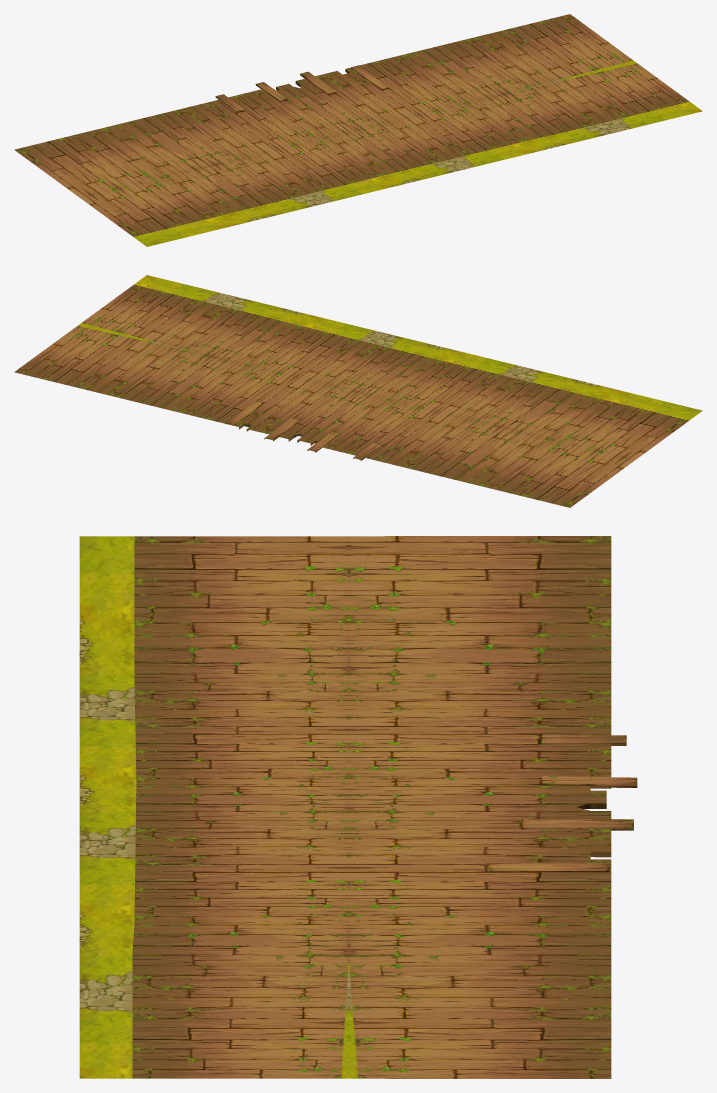
The model's file is sences_changbanpo_daolu003.FBX.
The picture shows the model from 3 angles, top to bottom: view 1: azimuth 30°, elevation 25°; view 2: azimuth 150°, elevation 25°; view 3: azimuth 270°, elevation 25°; orthographic projection. The views are drawn at different scales.
Visible parts, largest first — view 1: sences_changbanpo_daolu003; view 2: sences_changbanpo_daolu003; view 3: sences_changbanpo_daolu003.
Boxes of the visible parts, x1=… form: sences_changbanpo_daolu003: x1=14, y1=14, x2=702, y2=246; sences_changbanpo_daolu003: x1=14, y1=275, x2=702, y2=507; sences_changbanpo_daolu003: x1=79, y1=536, x2=637, y2=1078.
Size of the model in its own units: 68.47 by 0.4631 by 29.72.
